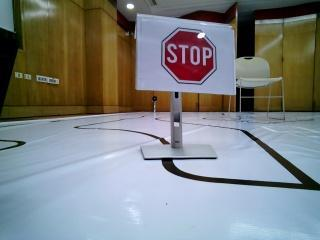stop: (143, 17, 230, 91)
